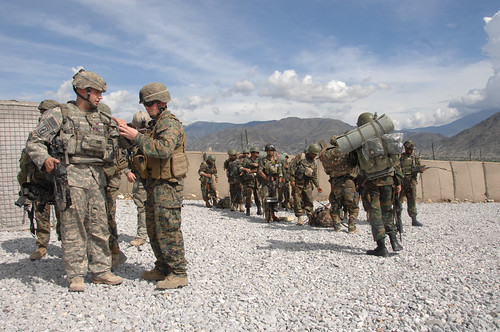sky: (5, 1, 500, 97)
soldier: (31, 59, 128, 307), (122, 82, 198, 291), (345, 108, 401, 258), (321, 134, 360, 232), (287, 145, 317, 225), (256, 143, 286, 223), (404, 141, 429, 228), (218, 146, 240, 218), (243, 149, 263, 213), (199, 151, 220, 207)
